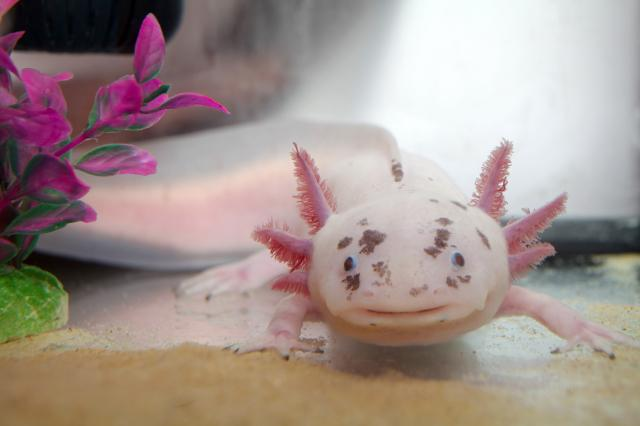Mulut: (356, 287, 462, 351)
